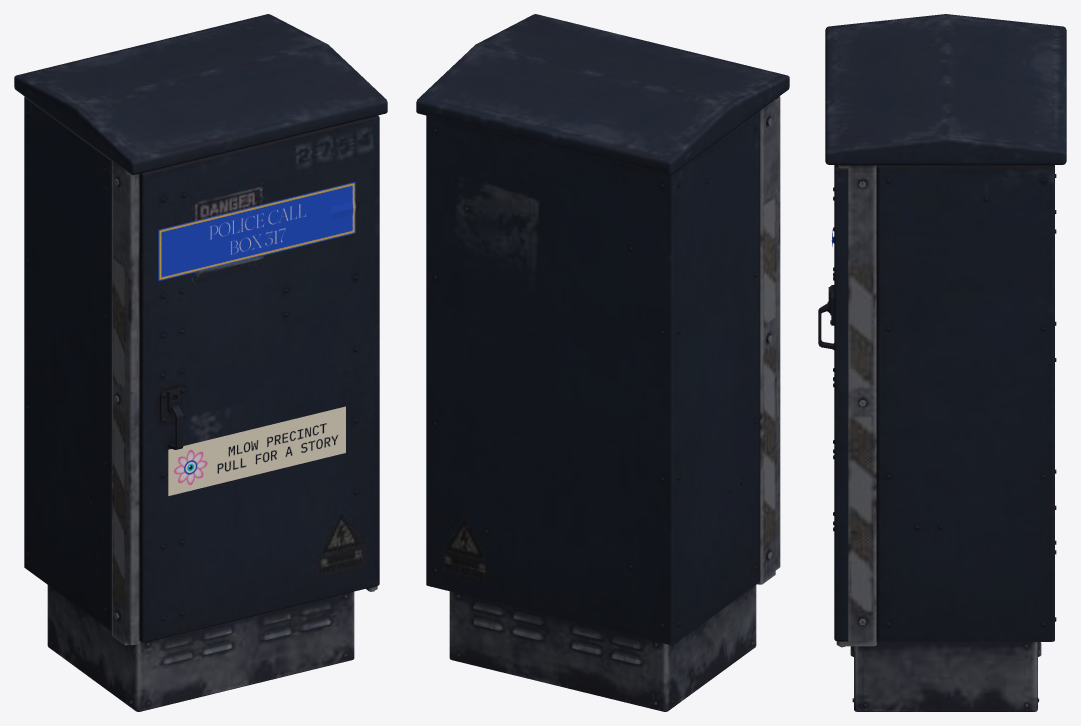
The model's file is nyb_naked_callbox.glb.
3 renders of one model, left to right at view 1: azimuth 30°, elevation 25°; view 2: azimuth 150°, elevation 25°; view 3: azimuth 270°, elevation 25°, orthographic.
Visible parts, largest first — view 1: utility_box_01_box, stk_lbl_54bd74892e.png, stk_lbl_8470a8479b.png; view 2: utility_box_01_box; view 3: utility_box_01_box.
Boxes of the visible parts, x1=… form: utility_box_01_box: x1=14, y1=14, x2=387, y2=711; stk_lbl_54bd74892e.png: x1=158, y1=181, x2=356, y2=281; stk_lbl_8470a8479b.png: x1=168, y1=406, x2=345, y2=495; utility_box_01_box: x1=416, y1=14, x2=789, y2=711; utility_box_01_box: x1=818, y1=14, x2=1066, y2=711.
Size of the model in its own units: 0.52 by 1.12 by 0.432.
3 materials, 3 textured.
